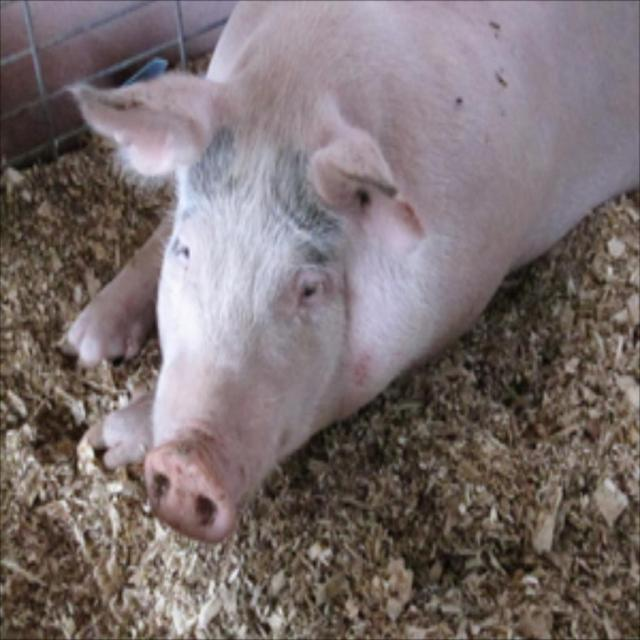Pig: (60, 0, 638, 546)
